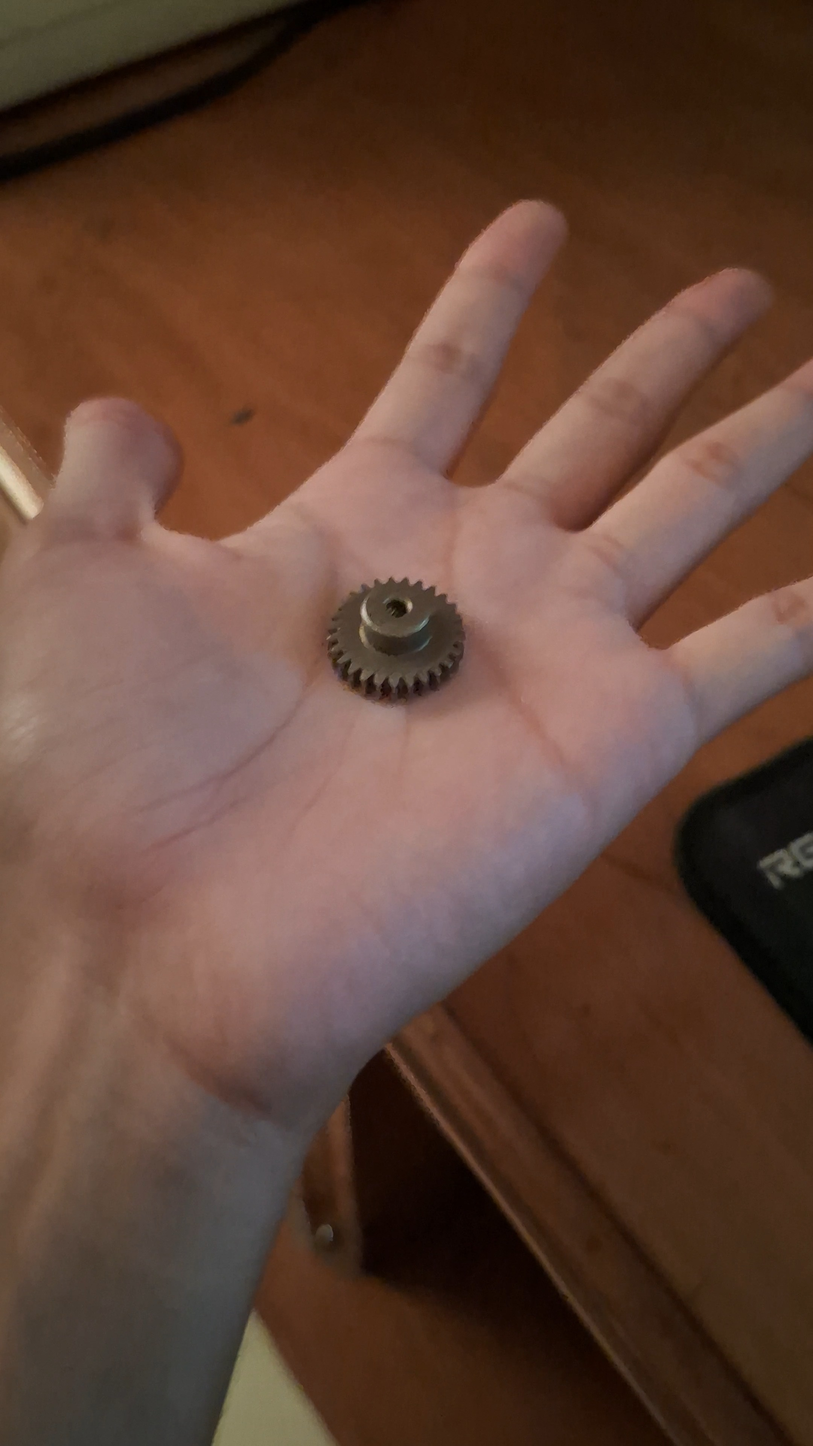spur gear: (327, 579, 464, 700)
